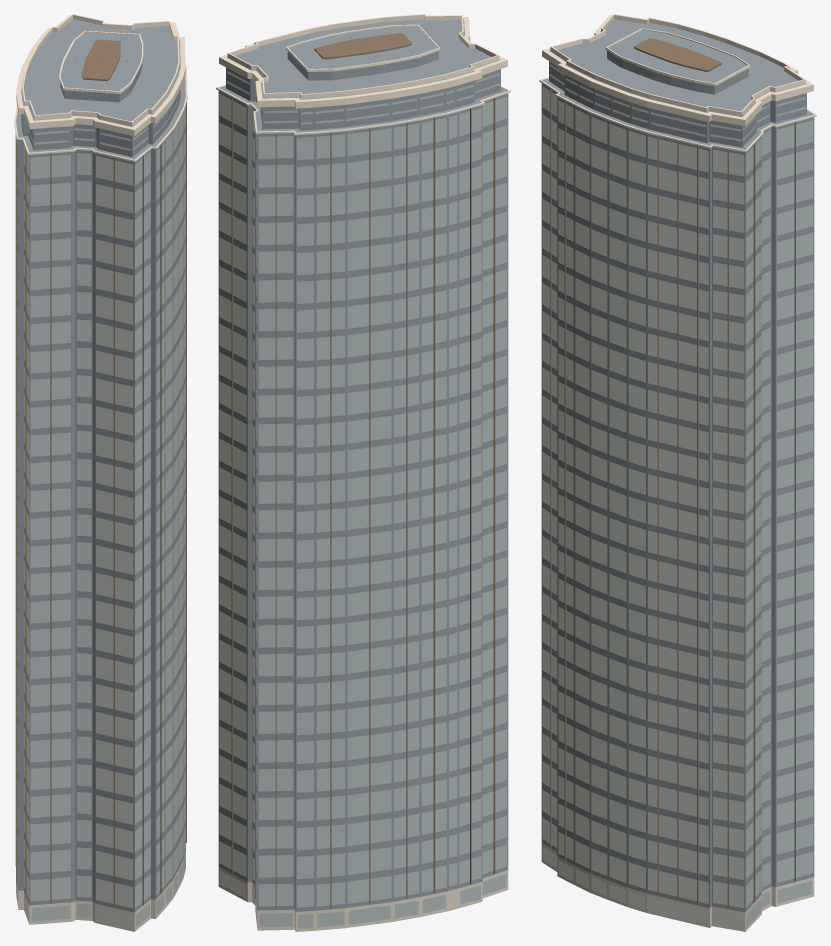
3 renders of one model, left to right at view 1: azimuth 30°, elevation 25°; view 2: azimuth 150°, elevation 25°; view 3: azimuth 270°, elevation 25°, orthographic. The views are drawn at different scales.
Visible parts, largest first — view 1: window, roof, metal, trim, stone; view 2: window, roof, metal, trim, stone; view 3: window, roof, metal, trim, stone.
Boxes of the visible parts, <box> form: window: <box>16,90,185,928</box>; roof: <box>16,19,185,912</box>; metal: <box>15,39,186,907</box>; trim: <box>14,14,187,162</box>; stone: <box>16,850,185,931</box>; window: <box>219,71,507,928</box>; roof: <box>218,19,508,911</box>; metal: <box>231,33,495,909</box>; trim: <box>216,14,510,135</box>; stone: <box>218,867,508,931</box>; window: <box>542,64,813,928</box>; roof: <box>541,19,814,912</box>; metal: <box>550,38,795,908</box>; trim: <box>539,14,816,152</box>; stone: <box>541,842,814,931</box>.
Bounding box in the file's own units: 58.48 × 210 × 63.94.
